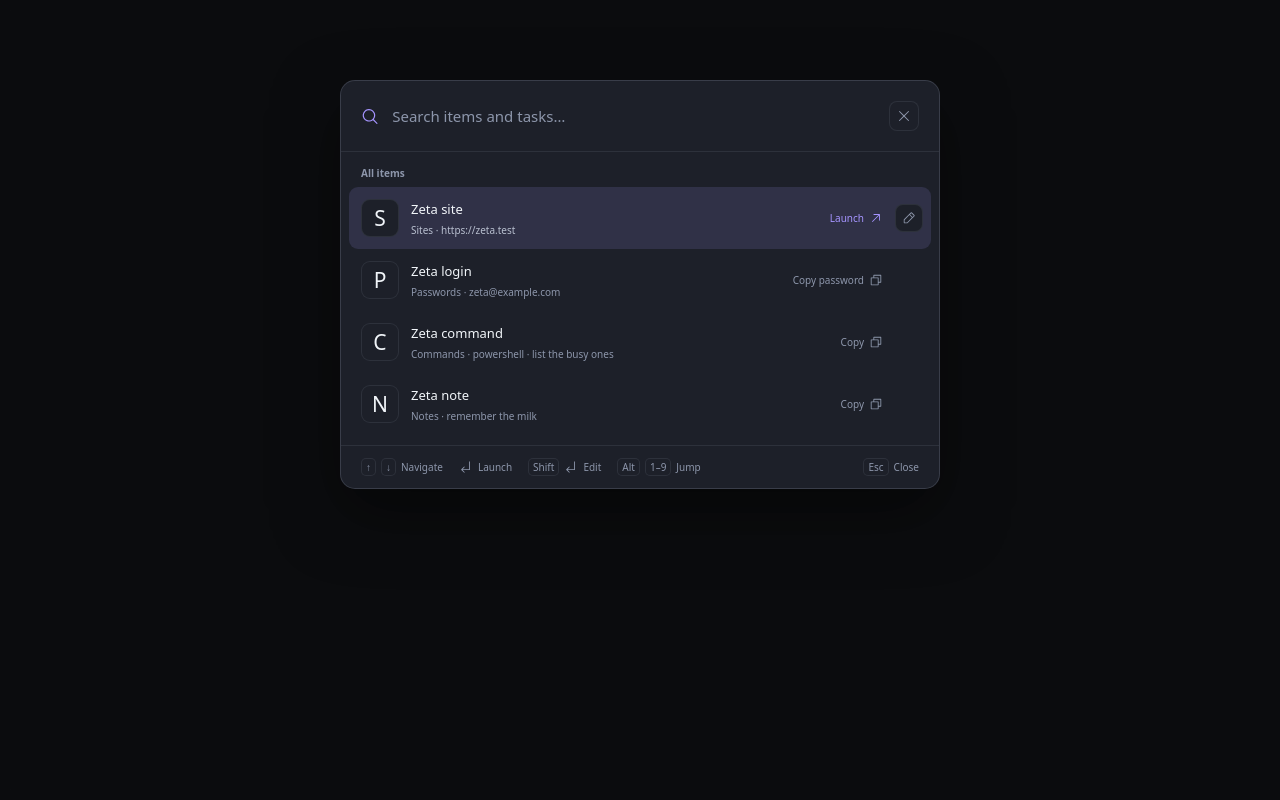
it: the search palette: what Enter does › does not search for the password
Type "hunter2" into the dropdown with test id "command-input". click: point(634, 116)
box: x1=392 y1=106 x2=876 y2=126
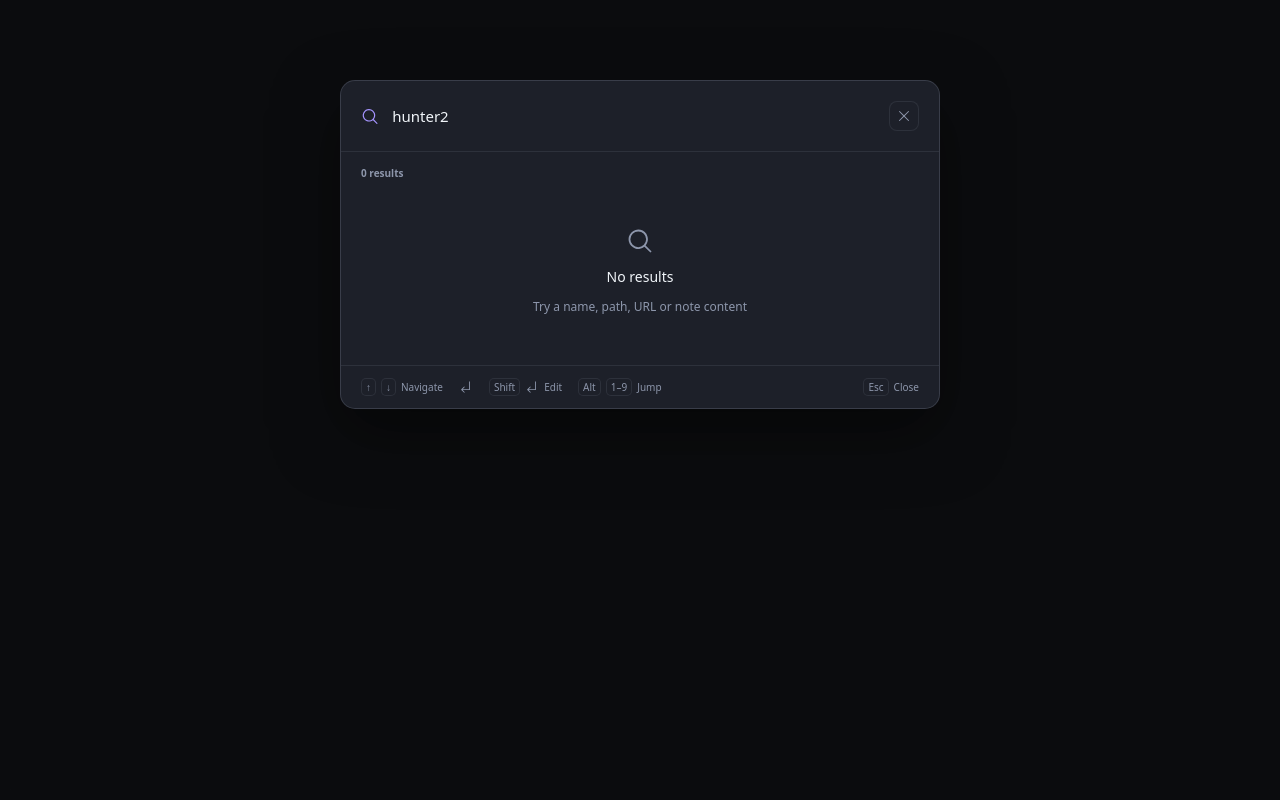
Result: no options are shown
